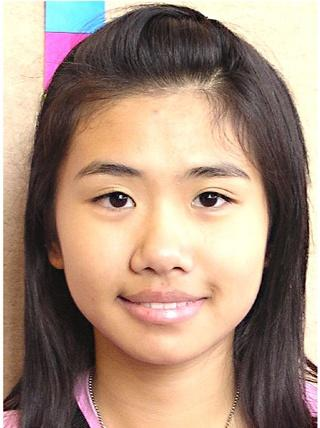No Mask: (22, 1, 314, 405)
